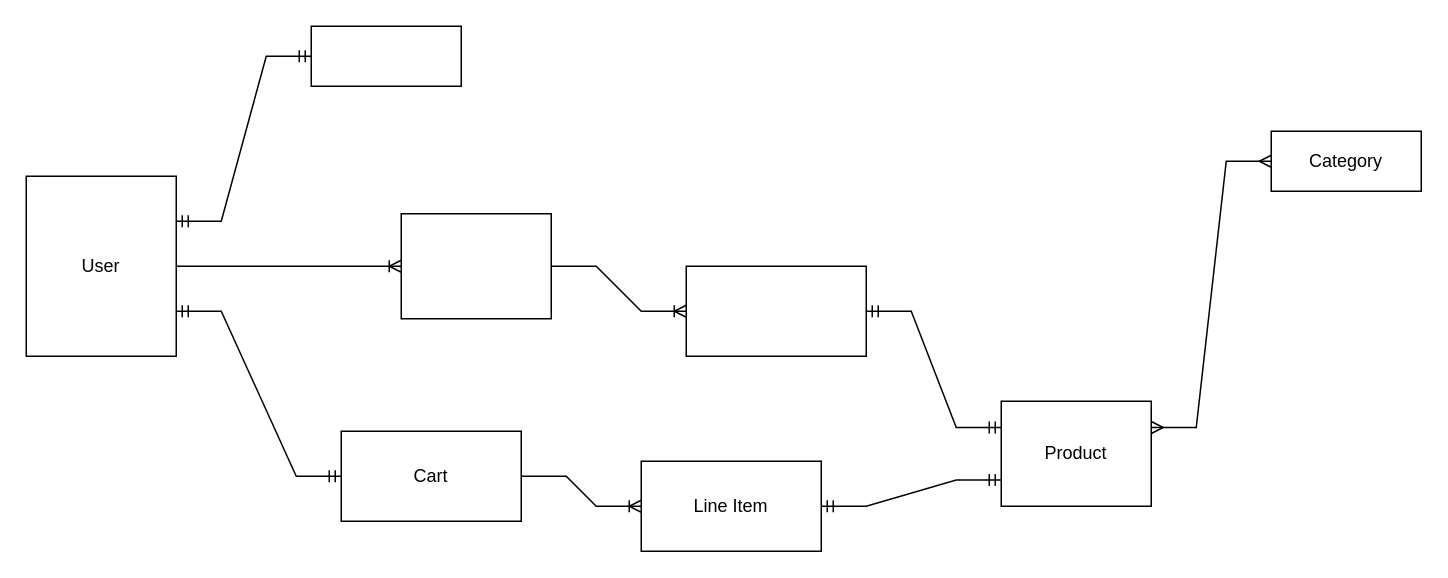
Image size: 1448x578. Some labels were removed from this diagram. The centre of each missing label's shape, as x and y in pixels:
"Item" belongs at (775,310).
"Order" belongs at (475,265).
"Role" belongs at (385,55).
